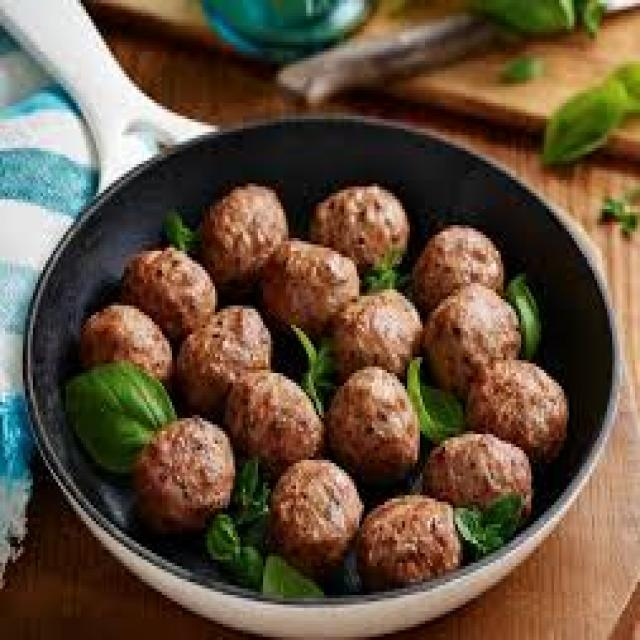meatball: (128, 399, 250, 542), (418, 418, 546, 528), (320, 360, 428, 480), (256, 456, 376, 564), (167, 292, 275, 409), (450, 349, 575, 450), (419, 281, 532, 388), (221, 357, 333, 462), (325, 282, 438, 386), (356, 486, 472, 587), (394, 212, 513, 310), (256, 227, 366, 330), (118, 238, 224, 342), (187, 179, 296, 276), (311, 169, 407, 274), (76, 303, 176, 389)
